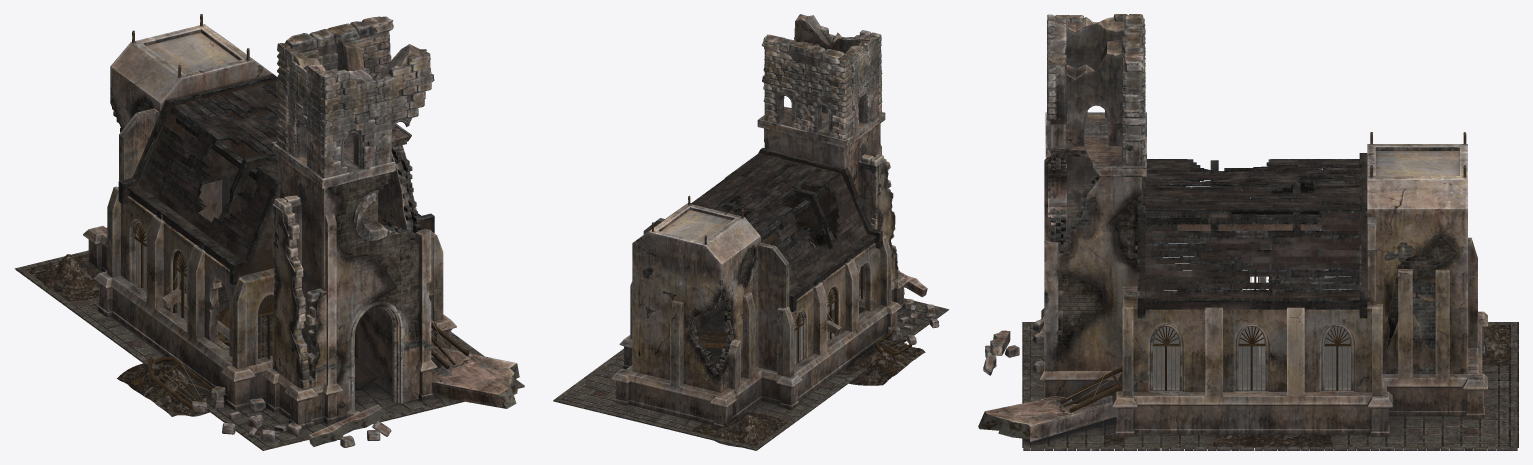
The model's file is war_damaged__church.glb.
3 views of the same model, side by side, from view 1: azimuth 30°, elevation 25°; view 2: azimuth 150°, elevation 25°; view 3: azimuth 270°, elevation 25° (orthographic). The views are drawn at different scales.
Visible parts, largest first — view 1: XI_WDS_Church.Shape; view 2: XI_WDS_Church.Shape; view 3: XI_WDS_Church.Shape.
Boxes of the visible parts, <box> form: XI_WDS_Church.Shape: <box>14,14,524,450</box>; XI_WDS_Church.Shape: <box>553,14,948,450</box>; XI_WDS_Church.Shape: <box>978,14,1518,450</box>.
Size of the model in its own units: 8.31 by 9.58 by 13.23.
Materials: 5 (5 with a texture image).
